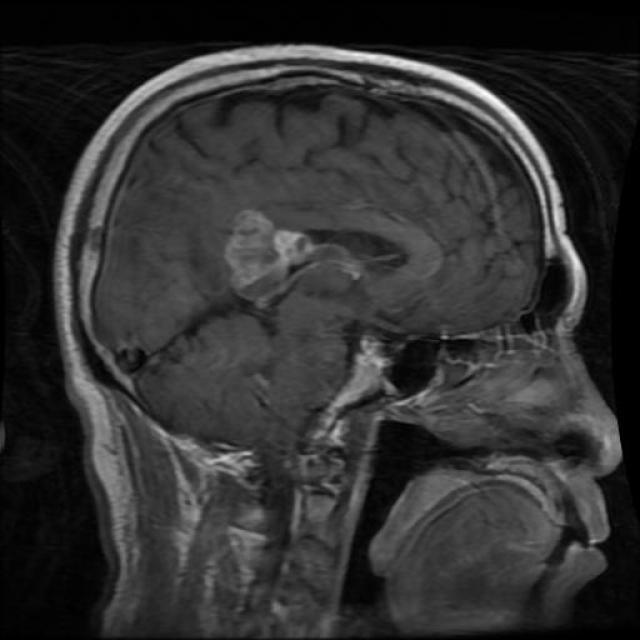glioma: (228, 206, 410, 296)
